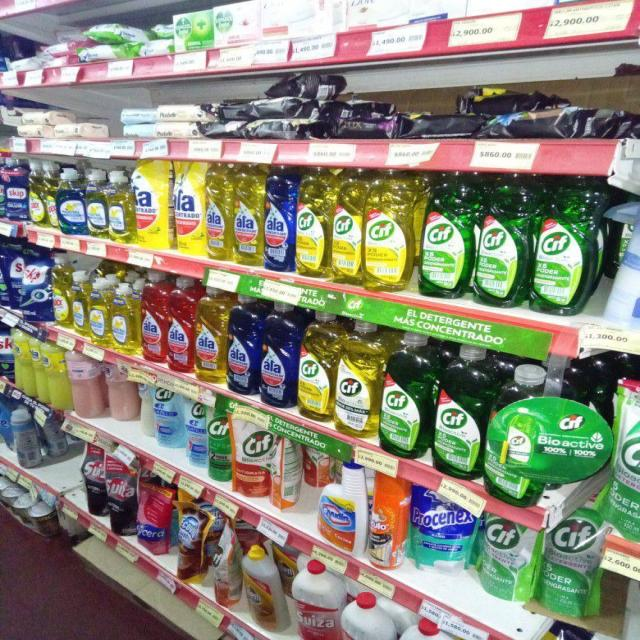ala_conc_amarillo: (196, 284, 227, 384), (233, 164, 263, 267), (206, 163, 233, 262)
ala_conc_azul: (260, 301, 298, 408), (264, 166, 296, 272), (228, 294, 260, 396)
ala_conc_rojo: (168, 276, 195, 374), (142, 273, 167, 365)
ala_sachet_amarillo: (134, 158, 170, 251), (173, 160, 204, 256)
cif_conc_bot_amarilla: (365, 172, 413, 292), (336, 318, 379, 438), (298, 309, 336, 422), (296, 170, 331, 279), (332, 171, 363, 285)
cif_conc_botella_verde: (532, 179, 596, 316), (474, 176, 529, 308), (432, 344, 484, 479), (418, 175, 472, 299), (380, 332, 431, 458)
cif_conc_sachet_verde: (542, 480, 602, 618), (611, 360, 640, 544), (480, 512, 537, 602)
magistral_con_amarillo: (111, 282, 139, 356), (108, 170, 132, 244), (86, 168, 107, 239), (89, 277, 110, 345), (52, 269, 70, 329), (72, 271, 88, 335)
magistral_con_azul: (58, 167, 85, 236)
